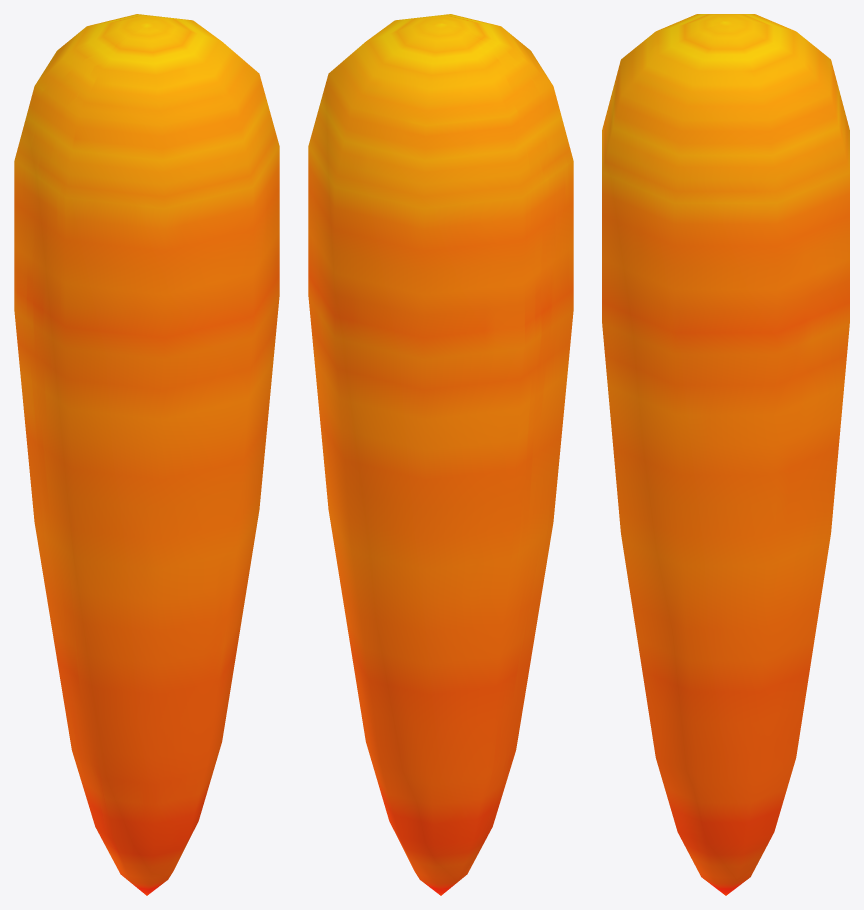
File: rocket.glb
The picture shows the model from 3 angles, left to right: view 1: azimuth 30°, elevation 25°; view 2: azimuth 150°, elevation 25°; view 3: azimuth 270°, elevation 25°; orthographic projection.
Parts seen in each view (by area): view 1: Cylinder; view 2: Cylinder; view 3: Cylinder.
Part boxes in pixels (left/top/right/bottom): Cylinder: left=14, top=14, right=279, bottom=895; Cylinder: left=308, top=14, right=573, bottom=895; Cylinder: left=602, top=14, right=849, bottom=895.
Bounding box in the file's own units: 2.6 × 10.1 × 2.6.
Materials: 1 (1 with a texture image).
